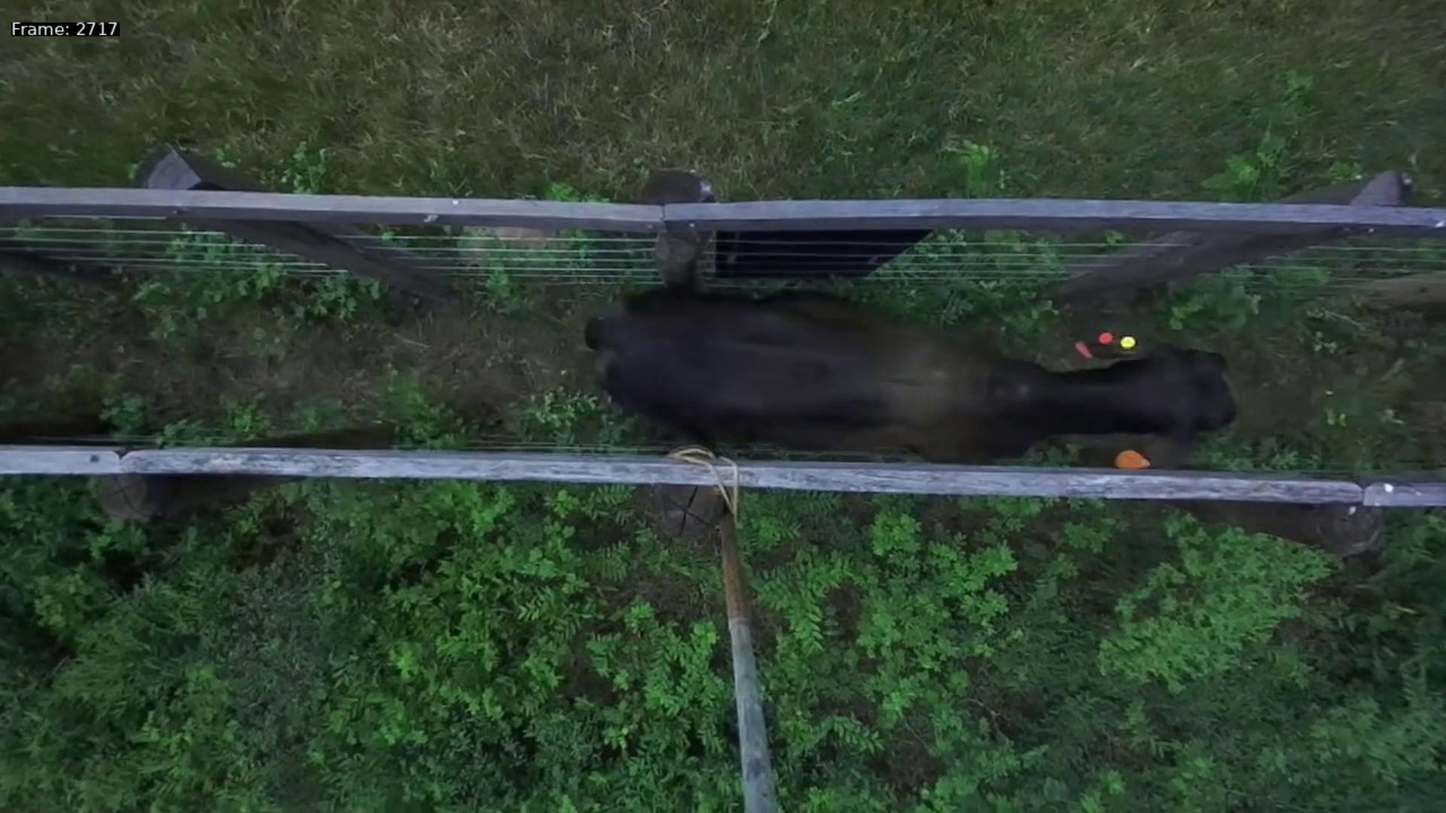cattle: (571, 266, 1251, 492)
